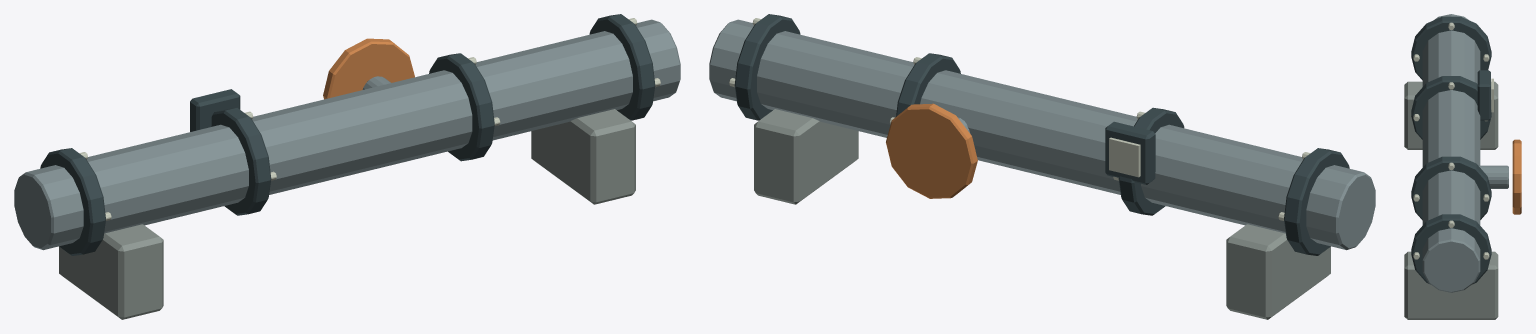
The model's file is pipe_run.glb.
The picture shows the model from 3 angles, left to right: view 1: azimuth 30°, elevation 25°; view 2: azimuth 150°, elevation 25°; view 3: azimuth 270°, elevation 25°; orthographic projection. The views are drawn at different scales.
Parts seen in each view (by area): view 1: pipe_run_Surface; view 2: pipe_run_Surface; view 3: pipe_run_Surface.
Boxes of the visible parts, <box> form: pipe_run_Surface: <box>14,14,680,319</box>; pipe_run_Surface: <box>709,14,1375,319</box>; pipe_run_Surface: <box>1404,14,1521,319</box>.
Size of the model in its own units: 4 by 0.915 by 0.8725.
1 material, 1 textured.
